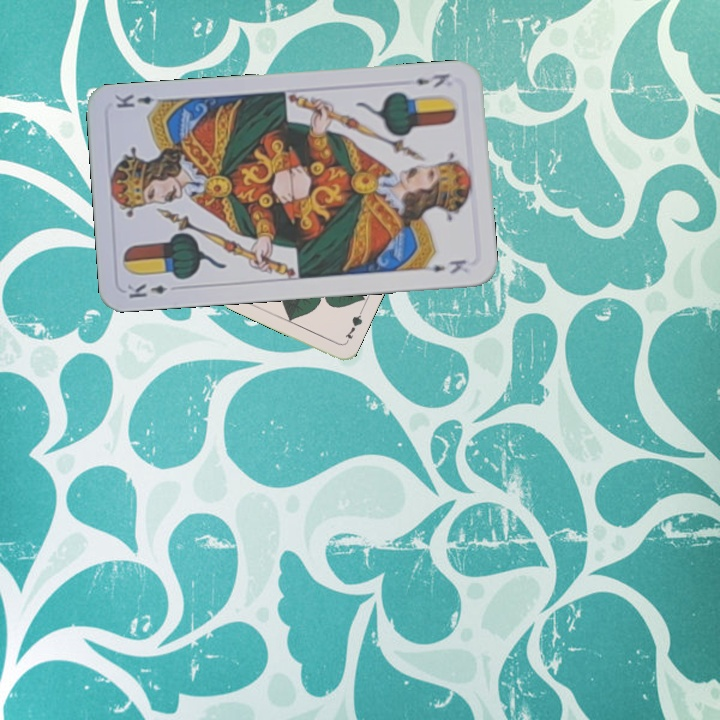EK: (123, 280, 169, 301), (411, 69, 452, 90)
G7: (341, 308, 365, 346)
